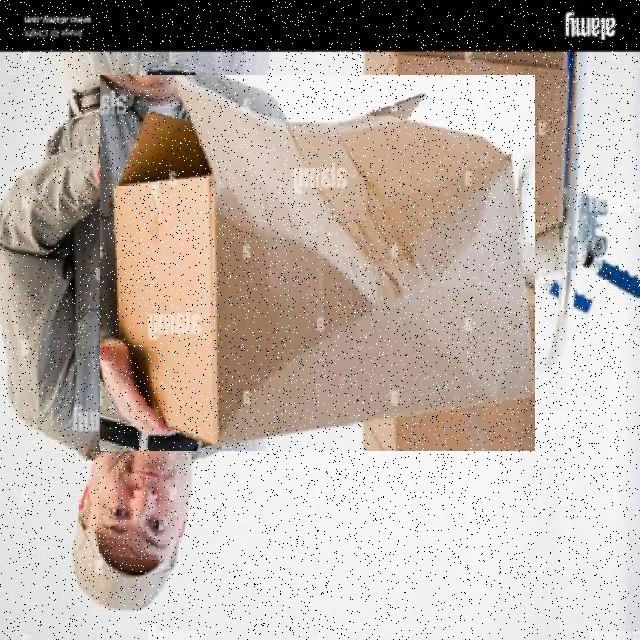defect: (100, 74, 535, 450)
